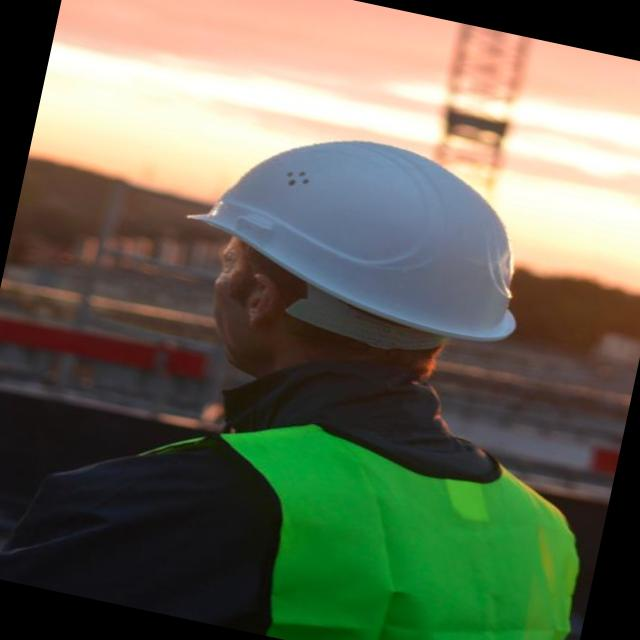Helmet: (160, 106, 576, 361)
Vest: (138, 399, 594, 640)
